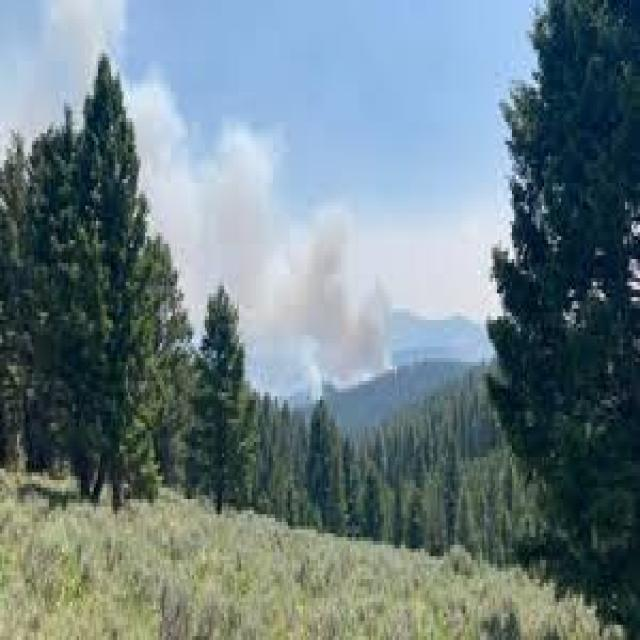Smoke: (248, 118, 406, 406)
